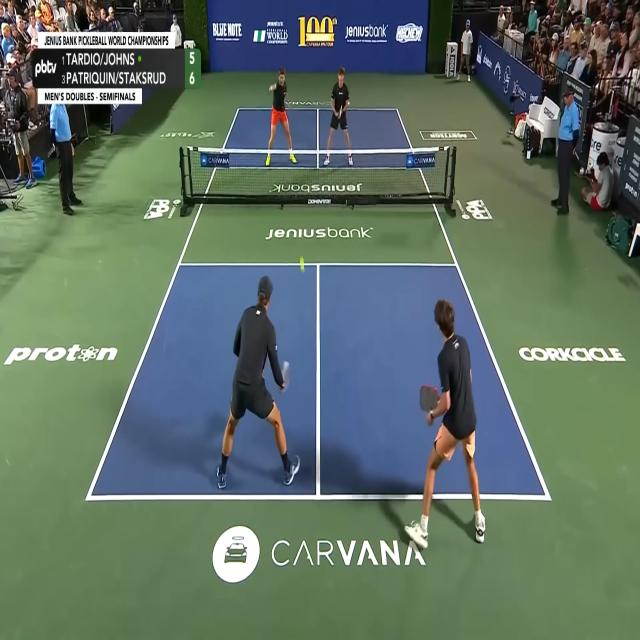ball: (300, 256, 304, 274)
